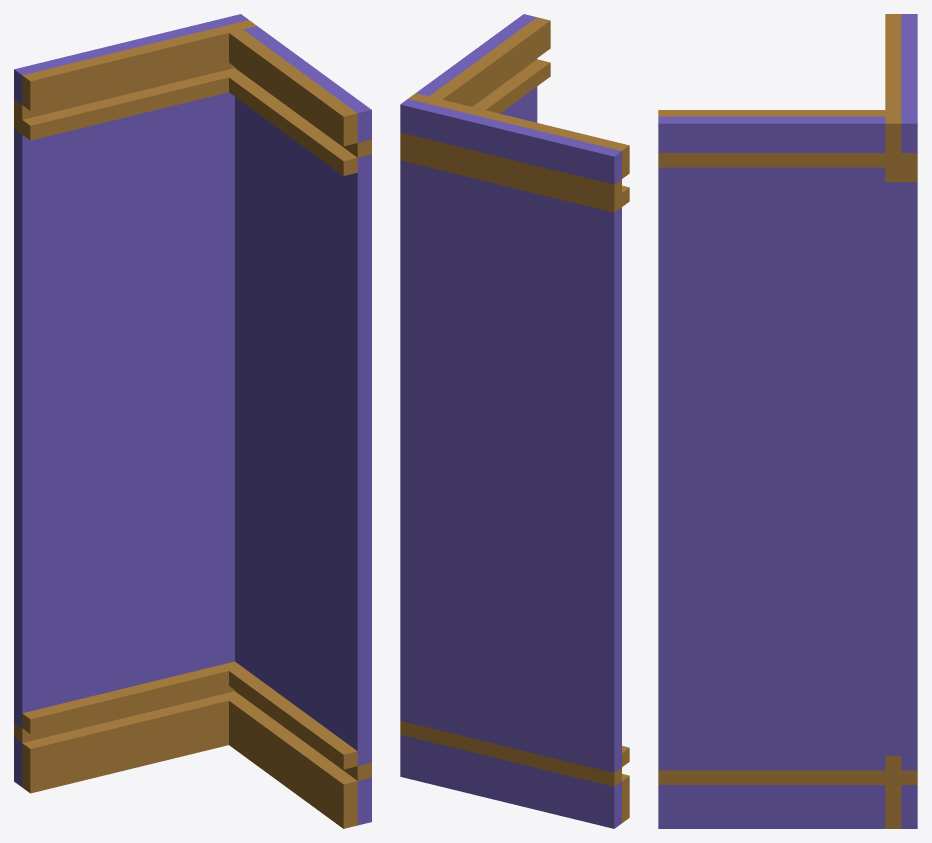
The model's file is Corner_A.obj.
The picture shows the model from 3 angles, left to right: view 1: azimuth 30°, elevation 25°; view 2: azimuth 150°, elevation 25°; view 3: azimuth 270°, elevation 25°; orthographic projection. The views are drawn at different scales.
Size of the model in its own units: 1.6 by 4.8 by 1.6.
Materials: 1 (1 with a texture image).
